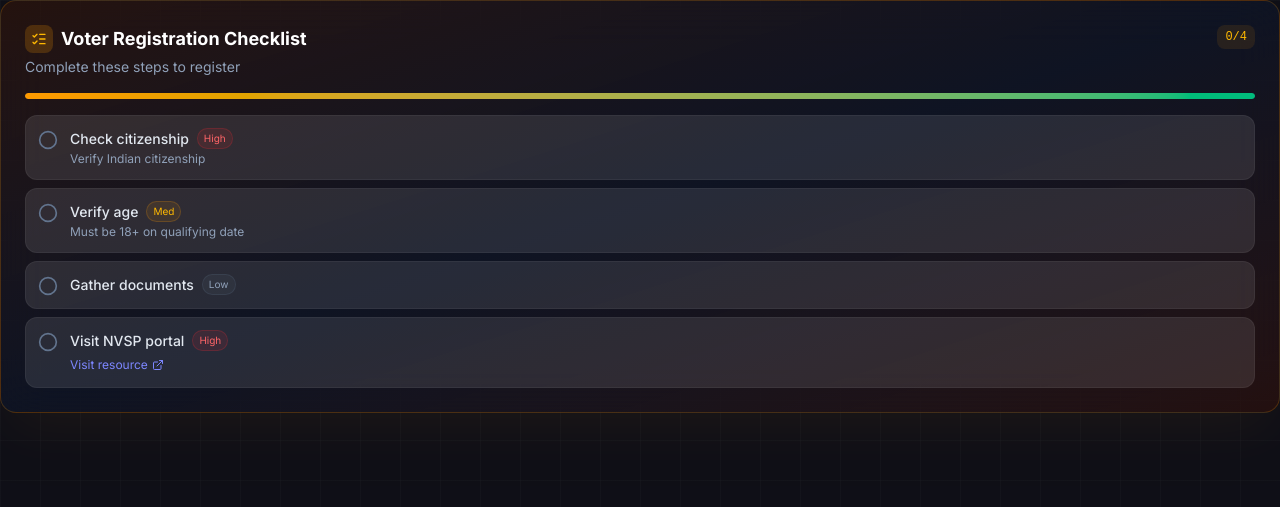
ActionChecklist › shows completion message when all items checked
What coordinates should you click on to do the following:
click the button with aria-label "Check: Check citizenship"
I would click on:
 (129, 138)
Its box is [25,115,1255,180].
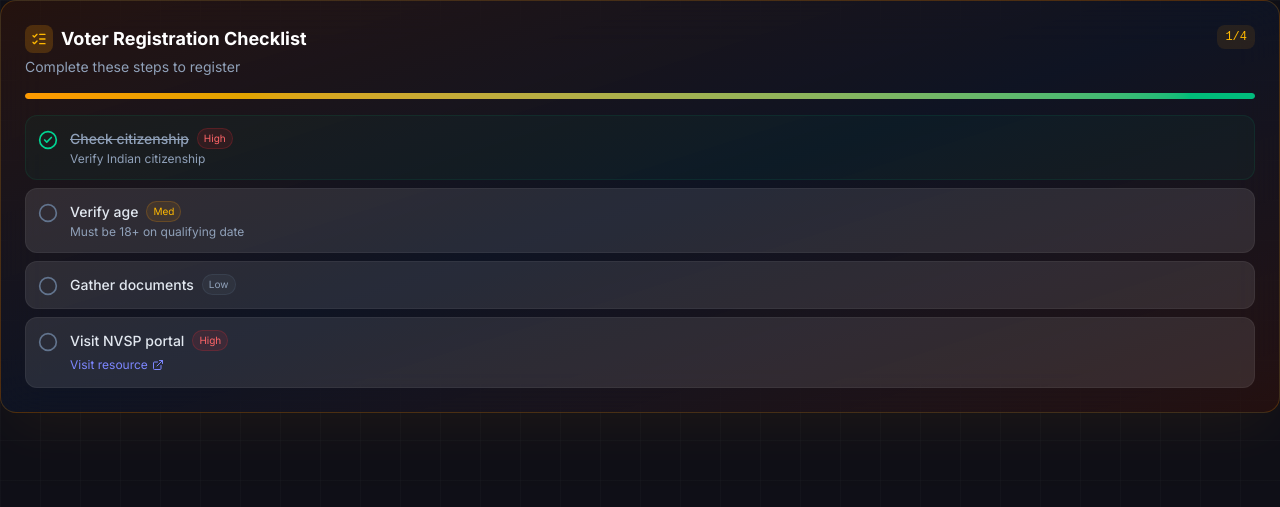
What coordinates should you click on to do the following:
click the button with aria-label "Check: Verify age"
I would click on:
 (104, 211)
Its box is [25,188,1255,253].
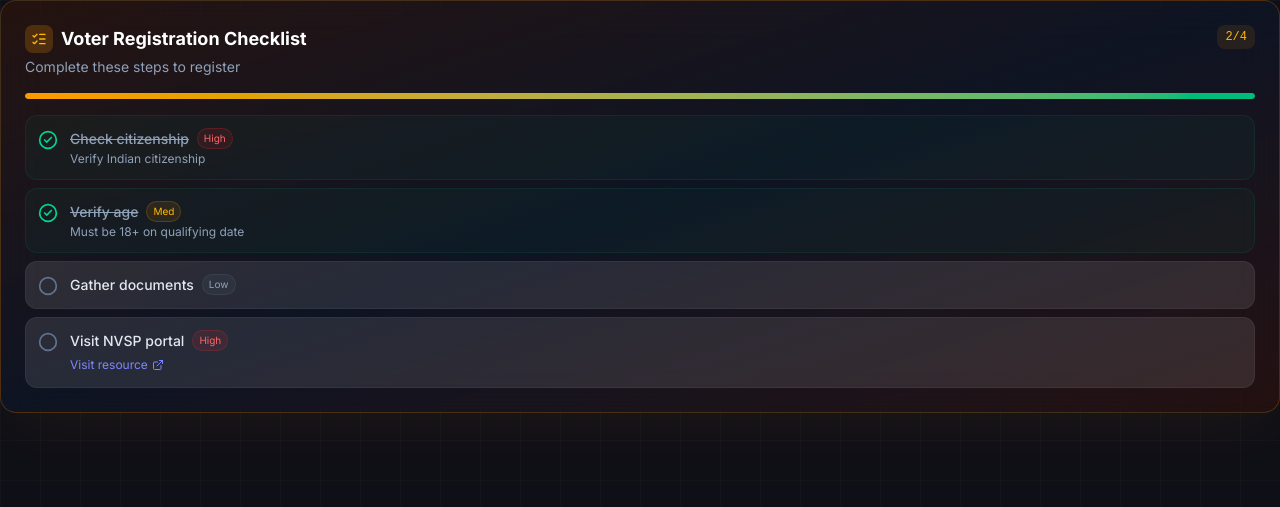
What coordinates should you click on to do the following:
click the button with aria-label "Check: Gather documents"
I would click on:
 (132, 284)
Its box is [25,261,1255,309].
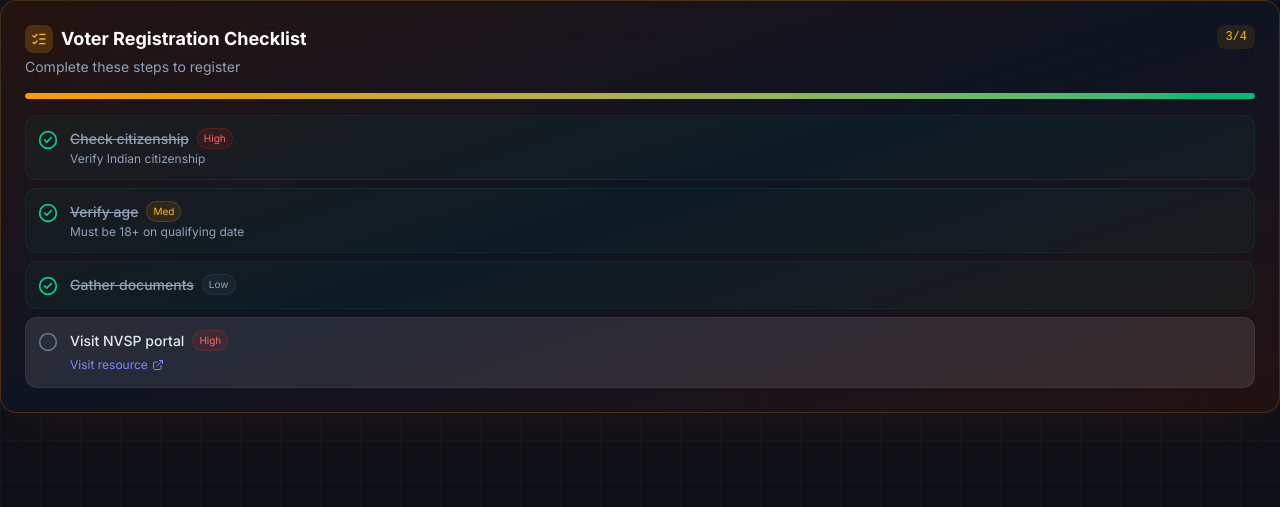
What coordinates should you click on to do the following:
click the button with aria-label "Check: Visit NVSP portal"
I would click on:
 (127, 340)
Its box is [25,317,1255,388].
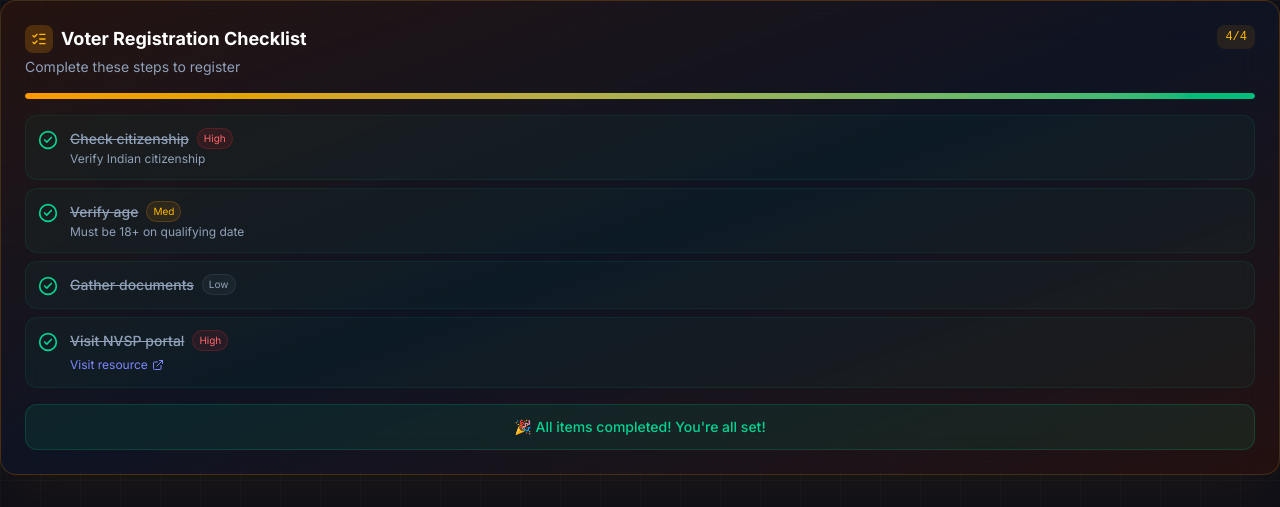
Check: the text "🎉 All items completed! You're all set!" is shown, box [514,418,766,435]
